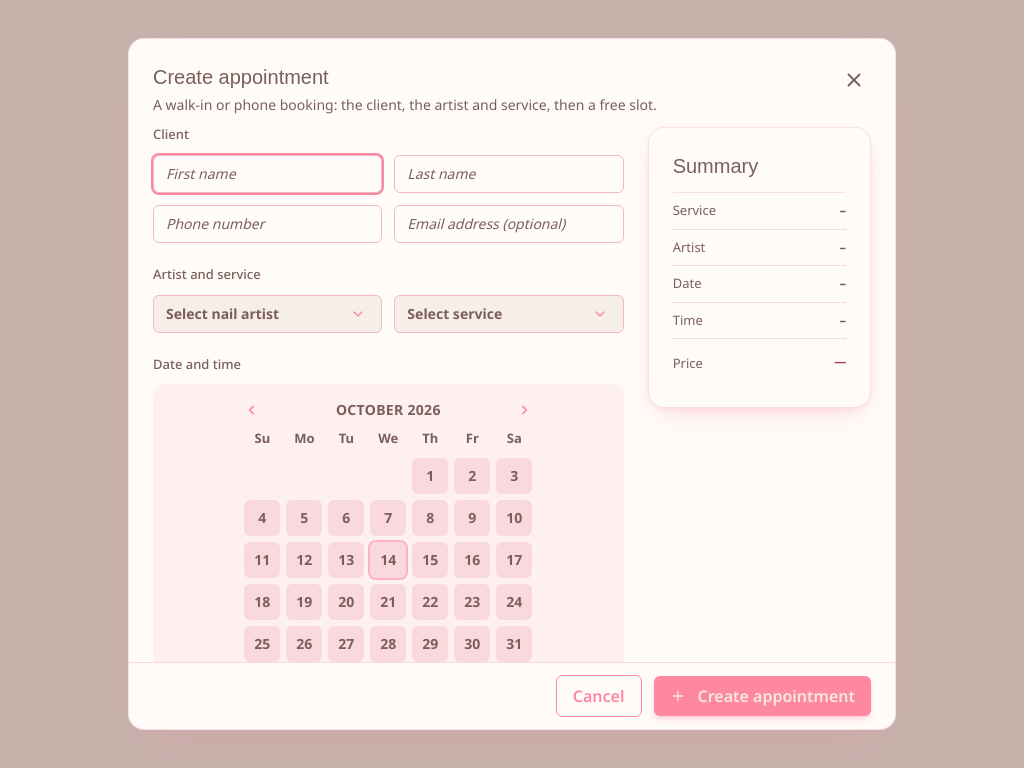
it: CreateAppointmentDialog: date and time › offers each of the artist's slots formatted, and blocks the one that is taken
Expected: the button "Select service" is enabled, [394,295,624,333]
Click the button "Select nail artist": (268, 314) [153,295,382,333]
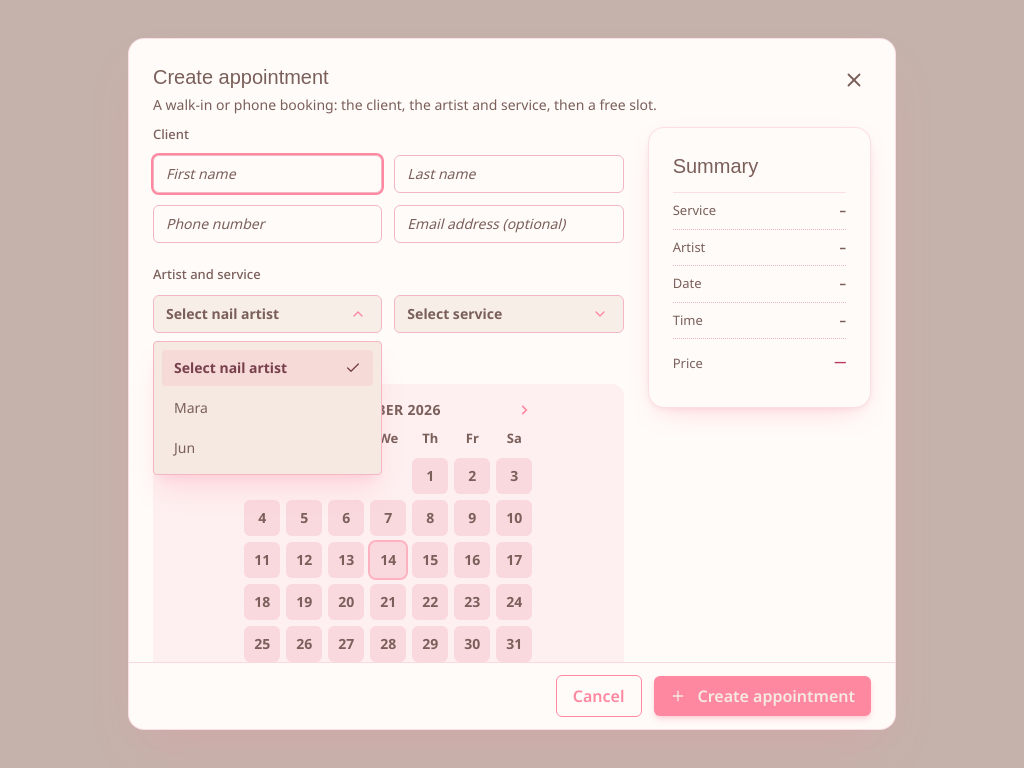
Click the option "Mara": (268, 408) [162,390,373,426]
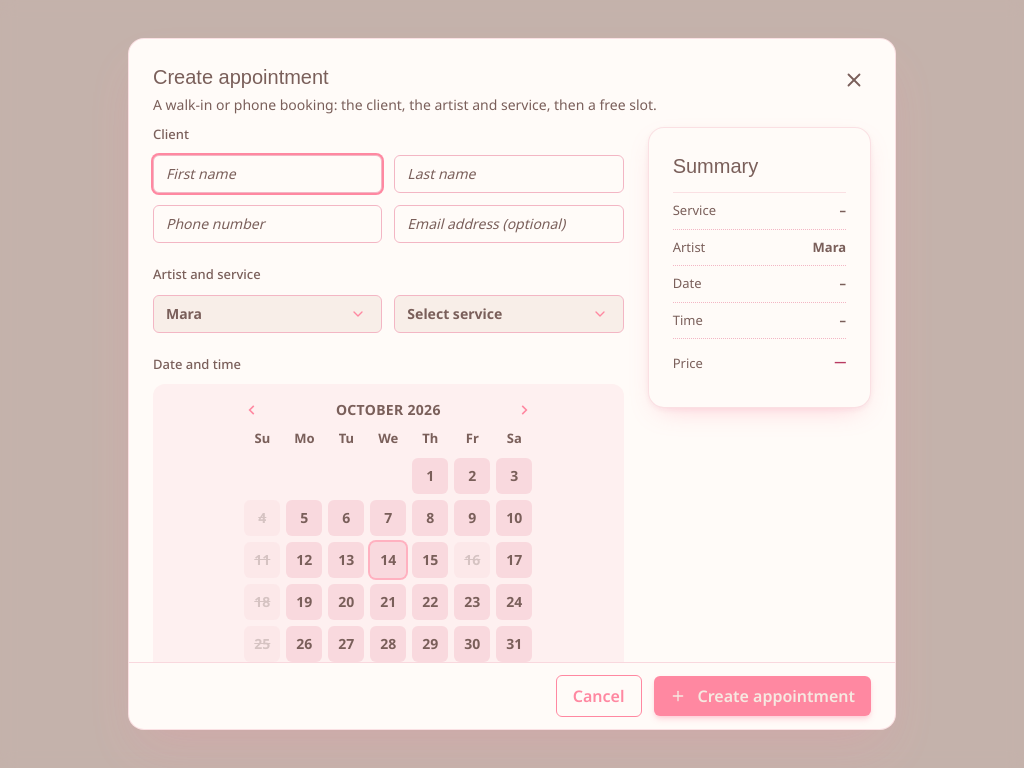
Click the button named "October 15th, 2026": (430, 560) [412,542,448,578]
(page scrolled)
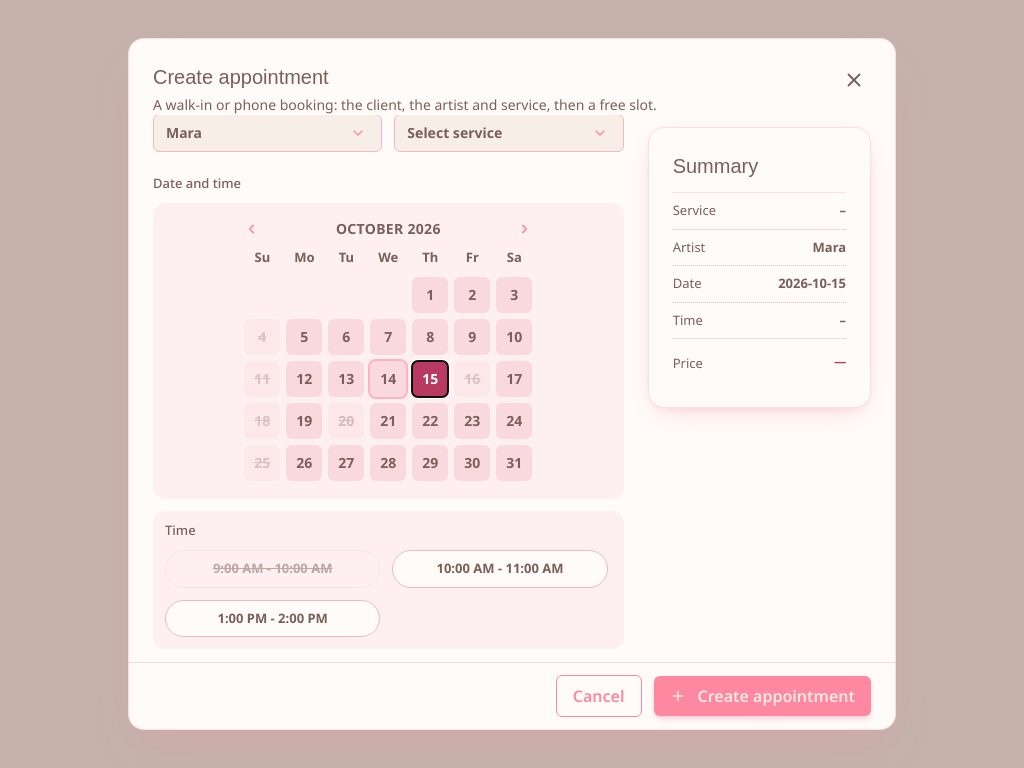
Expected: the button "9:00 AM - 10:00 AM" is disabled, [165,550,380,588]
Expected: the button "10:00 AM - 11:00 AM" is enabled, [392,550,608,588]
Expected: the button "1:00 PM - 2:00 PM" is enabled, [165,600,380,637]
